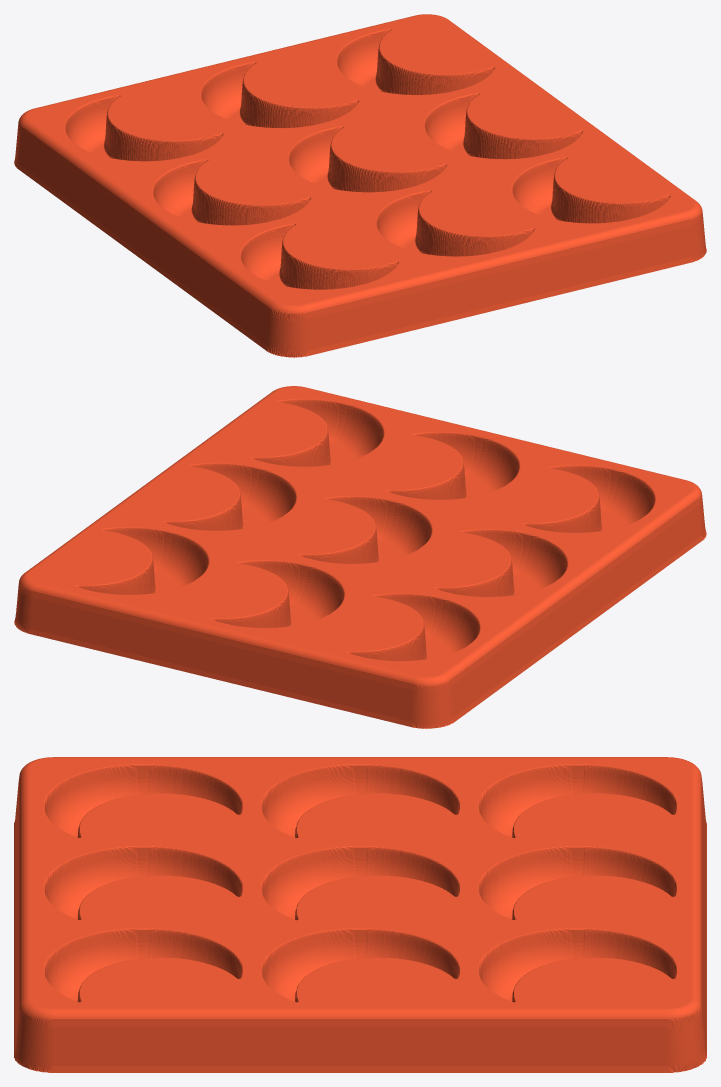
Rendered from mold.glb.
3 views of the same model, one above another, from view 1: azimuth 30°, elevation 25°; view 2: azimuth 150°, elevation 25°; view 3: azimuth 270°, elevation 25° (orthographic). The views are drawn at different scales.
Parts seen in each view (by area): view 1: geometry_0; view 2: geometry_0; view 3: geometry_0.
Boxes of the visible parts, <box> form: geometry_0: <box>14,14,706,357</box>; geometry_0: <box>14,386,706,728</box>; geometry_0: <box>14,757,706,1072</box>.
Bounding box in the file's own units: 0.1422 × 0.0145 × 0.1579.
